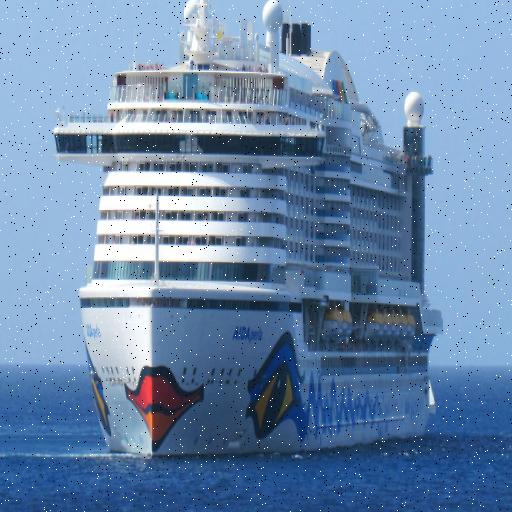cruises: (49, 1, 448, 466)
